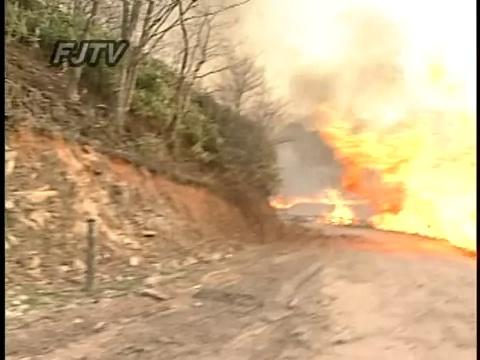fire: (336, 129, 405, 169)
